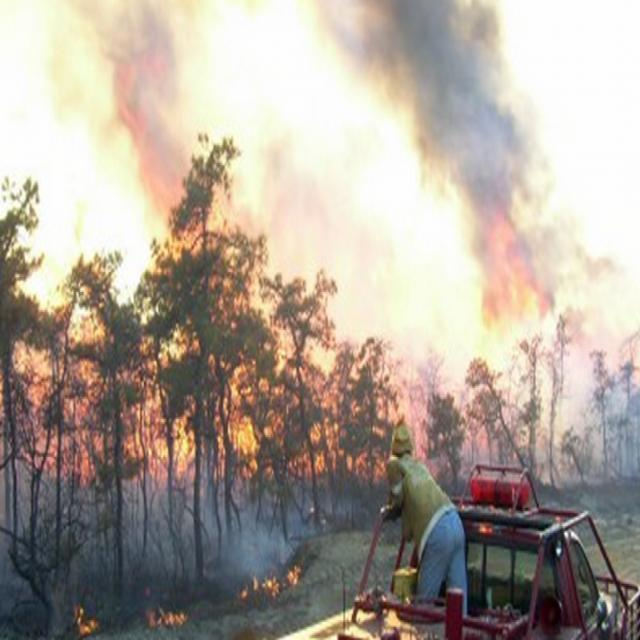Fire: (234, 558, 306, 610), (138, 601, 188, 633), (75, 600, 102, 640)
Smoke: (306, 0, 602, 366), (58, 0, 220, 251), (108, 470, 300, 578)
